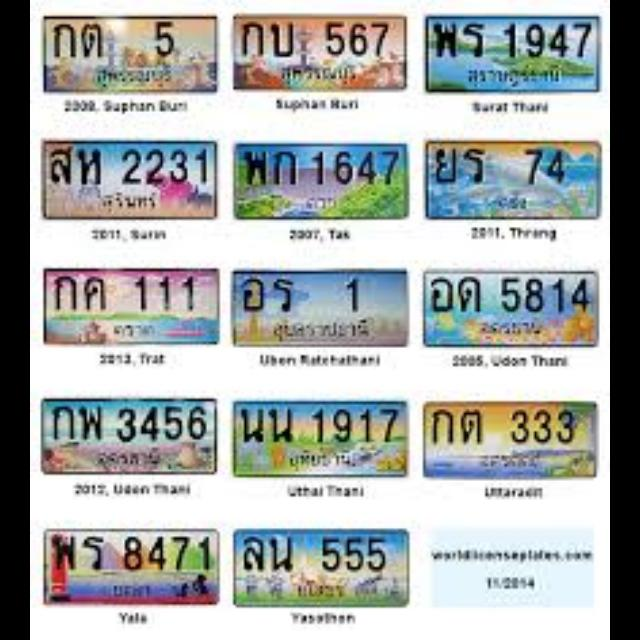licenseplate: (422, 136, 602, 222), (40, 137, 218, 223), (424, 11, 602, 95), (41, 14, 221, 96), (232, 527, 412, 609), (42, 526, 222, 608), (422, 398, 600, 479), (40, 266, 220, 346), (234, 398, 411, 479), (233, 142, 412, 222), (231, 12, 409, 92), (423, 268, 601, 348), (39, 396, 217, 476), (231, 270, 411, 346)
